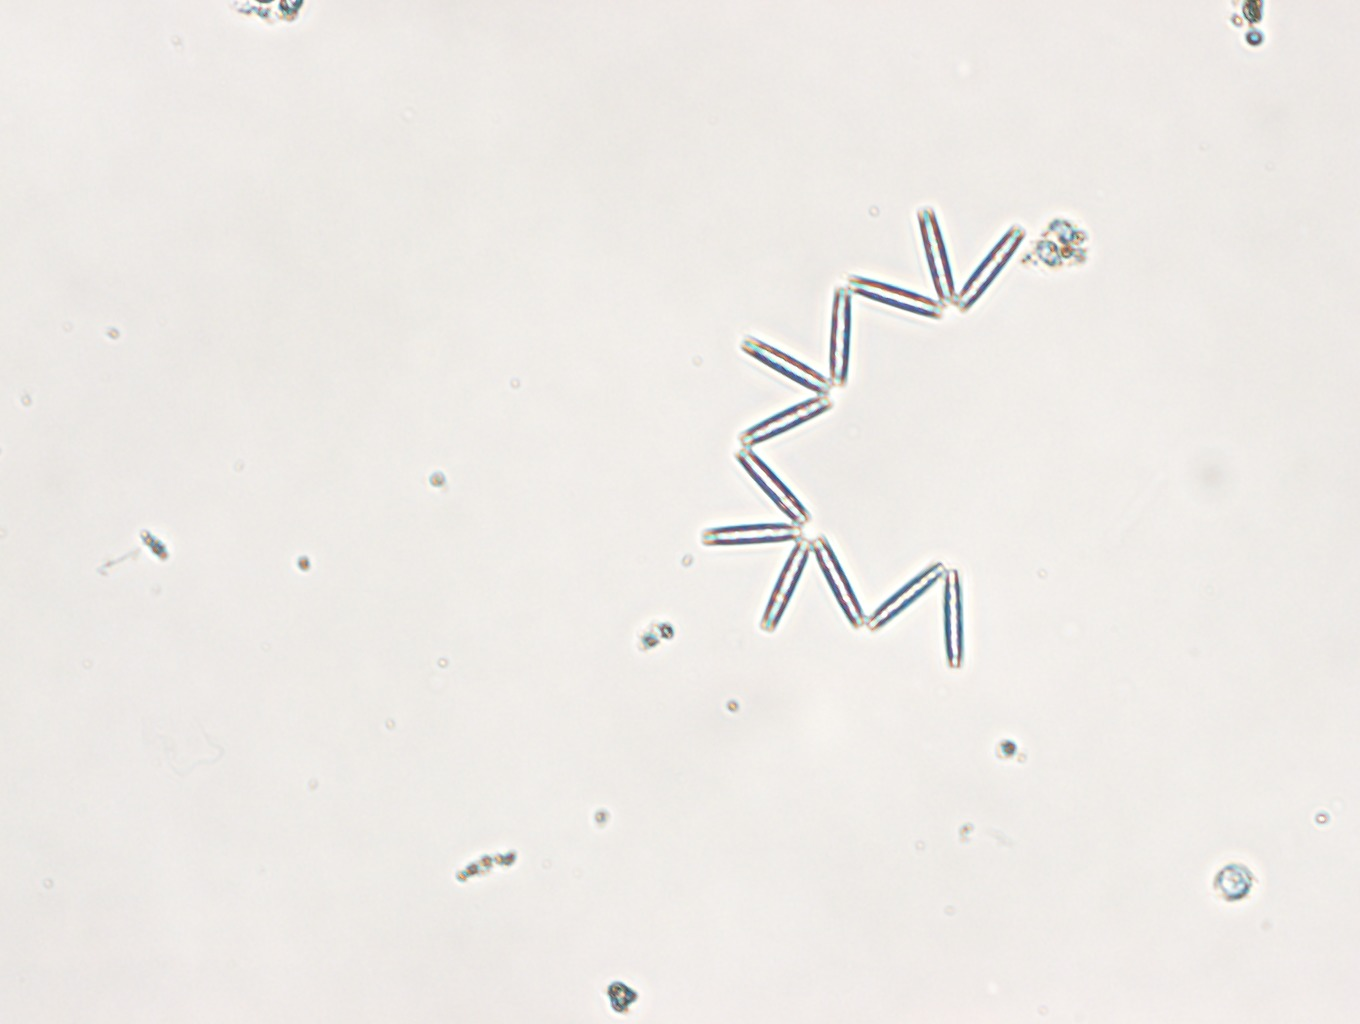thalassionema nitzschioides: (701, 205, 1023, 670)
